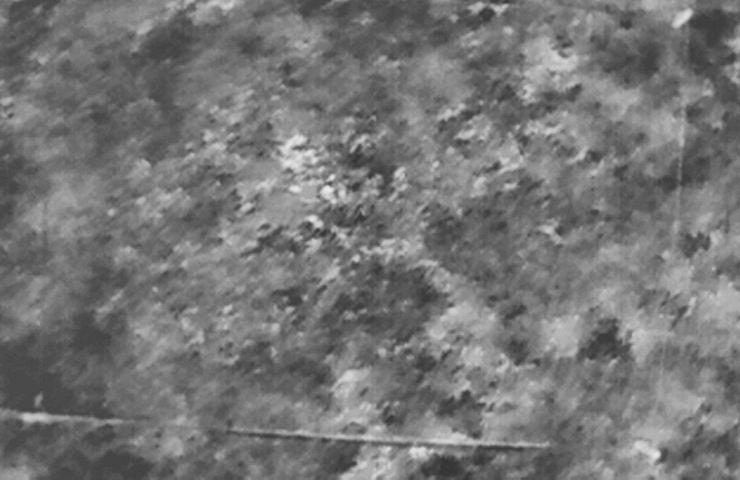landmines: (274, 128, 335, 182)
